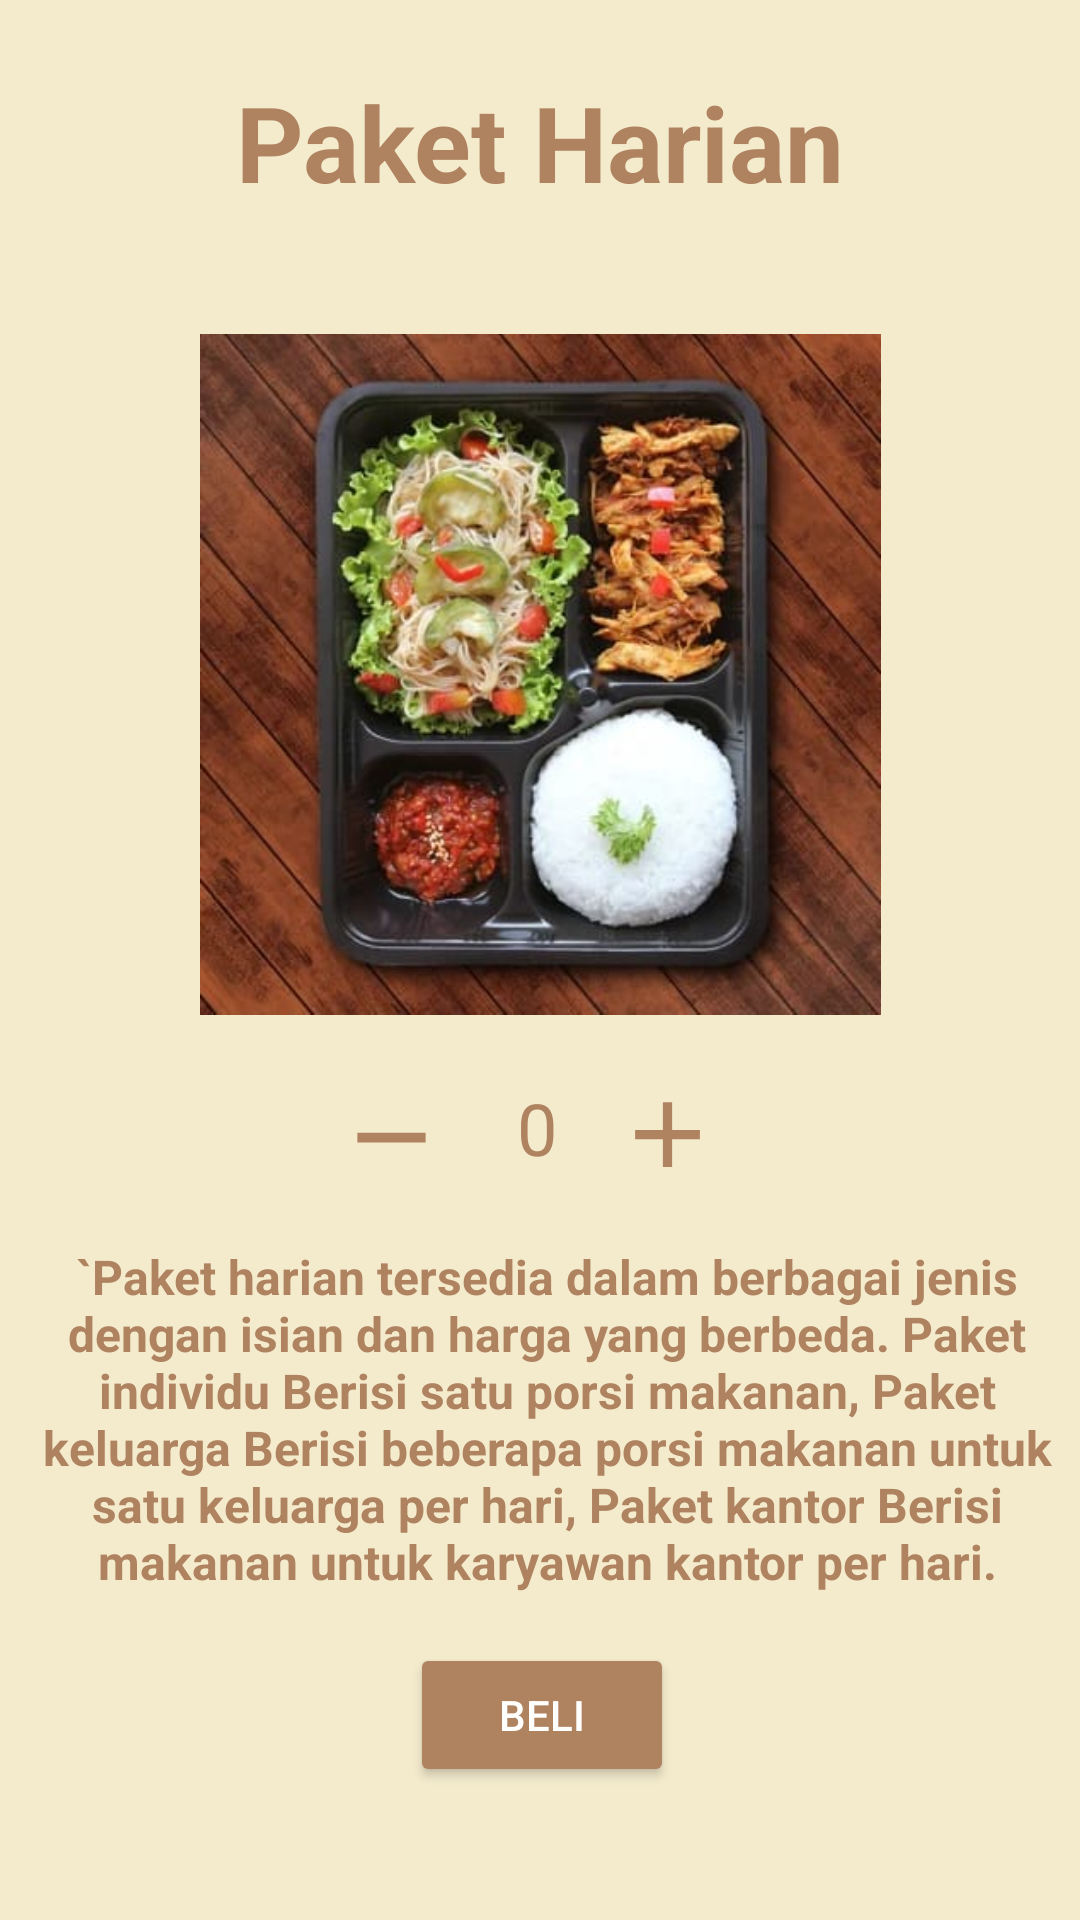

Screen size 1080*1920. Icon name, then its box in pixels as bbox(x1, y1, x2, y2):
add: bbox(635, 1102, 700, 1167)
